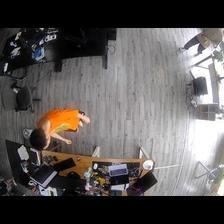normal: (31, 110, 89, 148)
